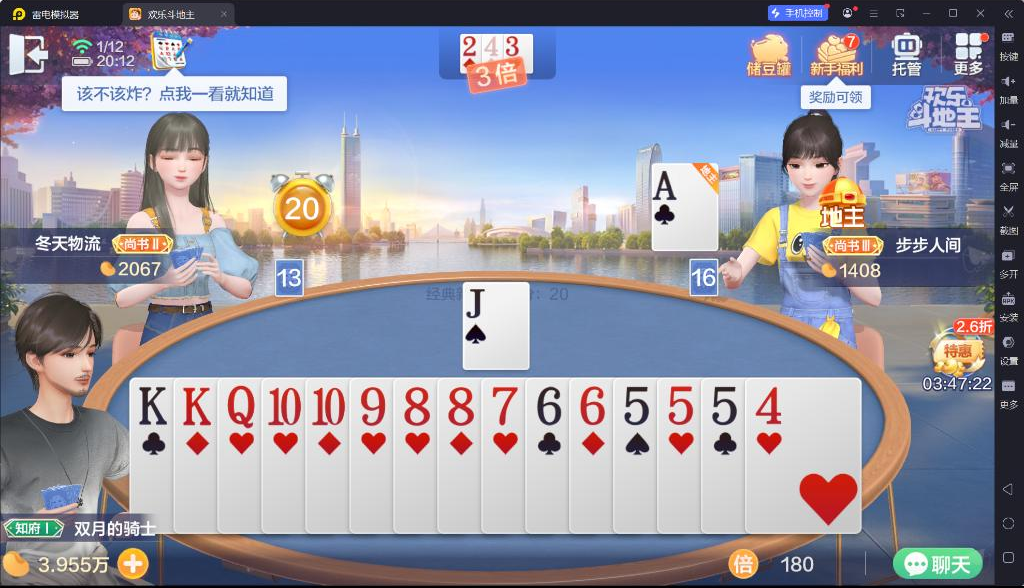A: (652, 169, 678, 204)
J: (463, 287, 486, 322)
K: (134, 382, 171, 428), (180, 383, 215, 427)
Q: (225, 381, 259, 430)
eight: (445, 384, 477, 430), (403, 383, 431, 429)
five: (618, 384, 654, 427), (707, 383, 741, 428), (663, 383, 696, 428)
four: (751, 384, 785, 427), (482, 35, 500, 58)
nine: (357, 384, 389, 428)
seven: (487, 384, 521, 428)
six: (533, 383, 565, 429), (577, 383, 607, 428)
ten: (310, 383, 346, 429), (267, 385, 303, 429)
three: (505, 35, 521, 57)
two: (461, 35, 477, 58)
